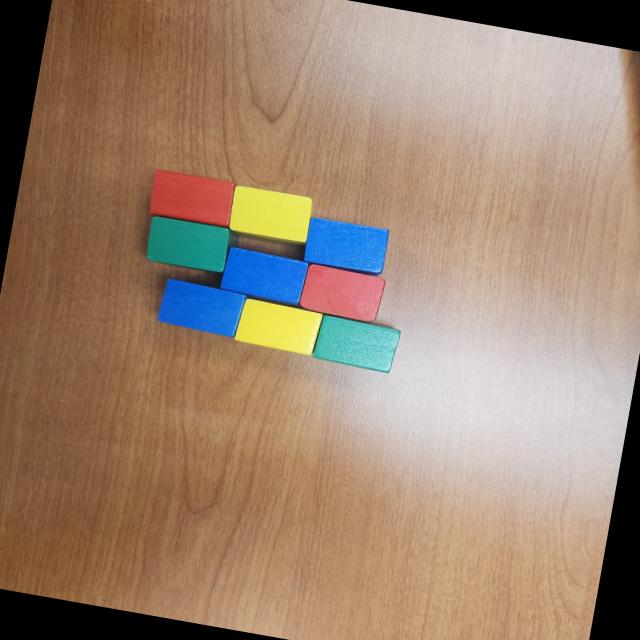blue: (218, 245, 308, 308), (156, 278, 249, 338), (302, 216, 391, 276)
green: (142, 212, 242, 276), (311, 314, 404, 376)
red: (146, 168, 238, 228), (297, 261, 385, 323)
yellow: (226, 183, 314, 242), (234, 298, 323, 356)
